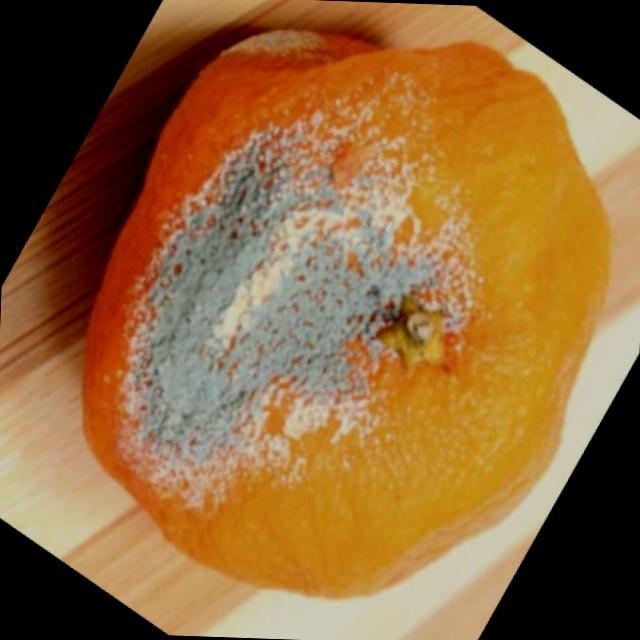Orange: (73, 21, 620, 612)
